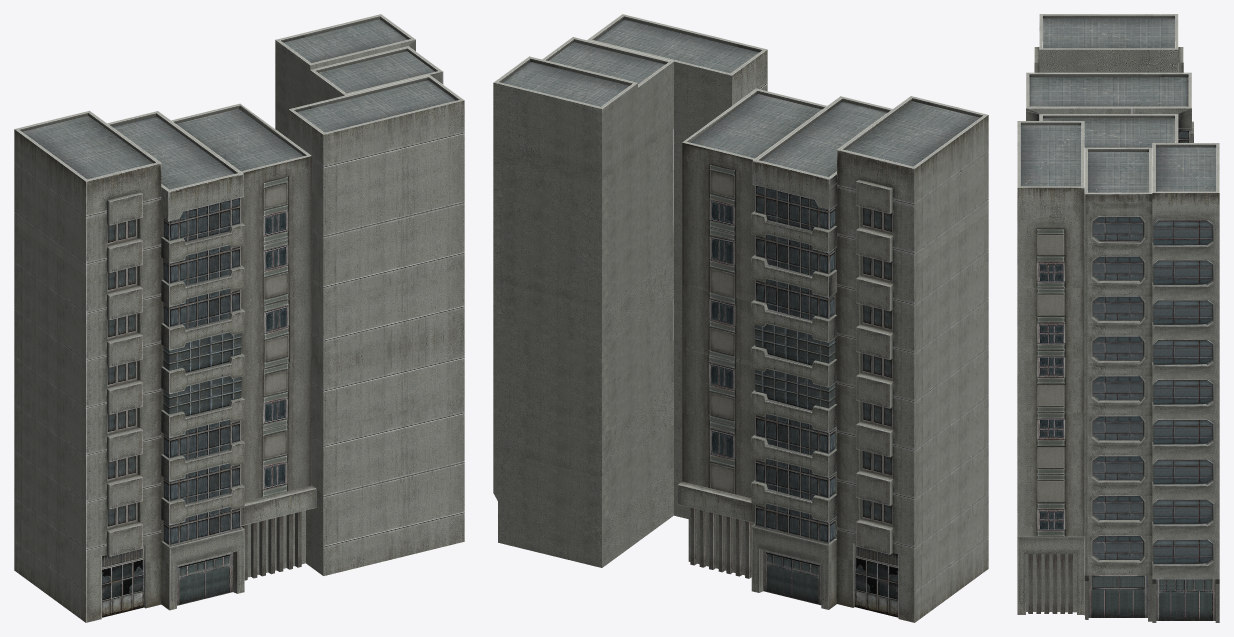
The model's file is buildings_07.FBX.
The picture shows the model from 3 angles, left to right: view 1: azimuth 30°, elevation 25°; view 2: azimuth 150°, elevation 25°; view 3: azimuth 270°, elevation 25°; orthographic projection. The views are drawn at different scales.
Parts seen in each view (by area): view 1: Object006; view 2: Object006; view 3: Object006.
Part boxes in pixels (box(x1,y1,x2,y2)): Object006: box(14, 14, 464, 622); Object006: box(493, 14, 988, 622); Object006: box(1017, 14, 1219, 622).
Bounding box in the file's own units: 2578 × 1202 × 2830.
Materials: 1 (1 with a texture image).
